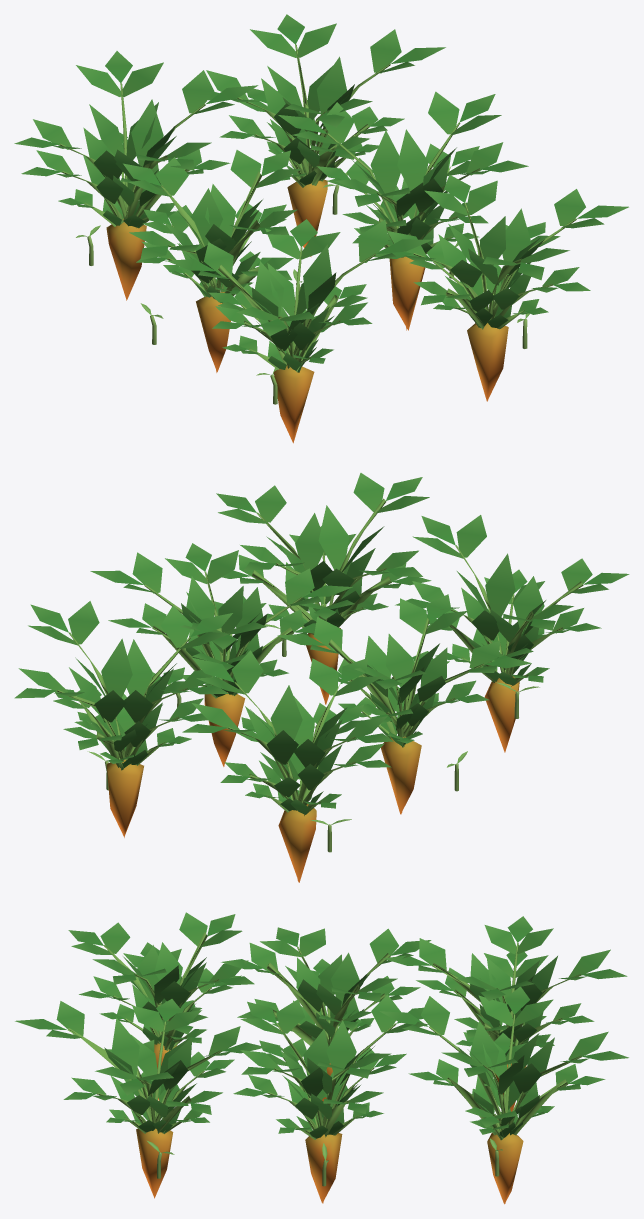
Rendered from crop_carrot.glb.
3 renders of one model, top to bottom at view 1: azimuth 30°, elevation 25°; view 2: azimuth 150°, elevation 25°; view 3: azimuth 270°, elevation 25°, orthographic. The views are drawn at different scales.
Visible parts, largest first — view 1: stage3, stage2, stage1, stage0; view 2: stage3, stage2, stage1, stage0; view 3: stage3, stage2, stage1, stage0.
Part boxes in pixels (x1,y1,x2,y2): stage3: (14, 14, 628, 443); stage2: (21, 88, 590, 372); stage1: (58, 136, 548, 372); stage0: (76, 173, 529, 404); stage3: (14, 473, 629, 882); stage2: (53, 526, 601, 882); stage1: (74, 585, 549, 815); stage0: (87, 624, 539, 852); stage3: (15, 912, 628, 1204); stage2: (63, 942, 605, 1203); stage1: (99, 1000, 554, 1140); stage0: (147, 1138, 502, 1186).
Size of the model in its own units: 1.24 by 0.5816 by 1.76.
